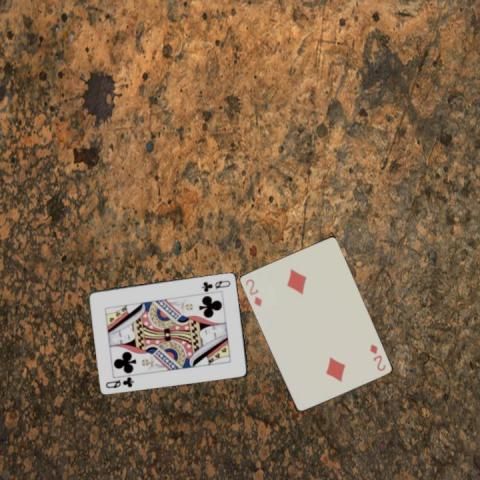2d: (242, 276, 263, 308), (366, 340, 387, 372)
Qc: (199, 277, 232, 292), (103, 374, 134, 389)
